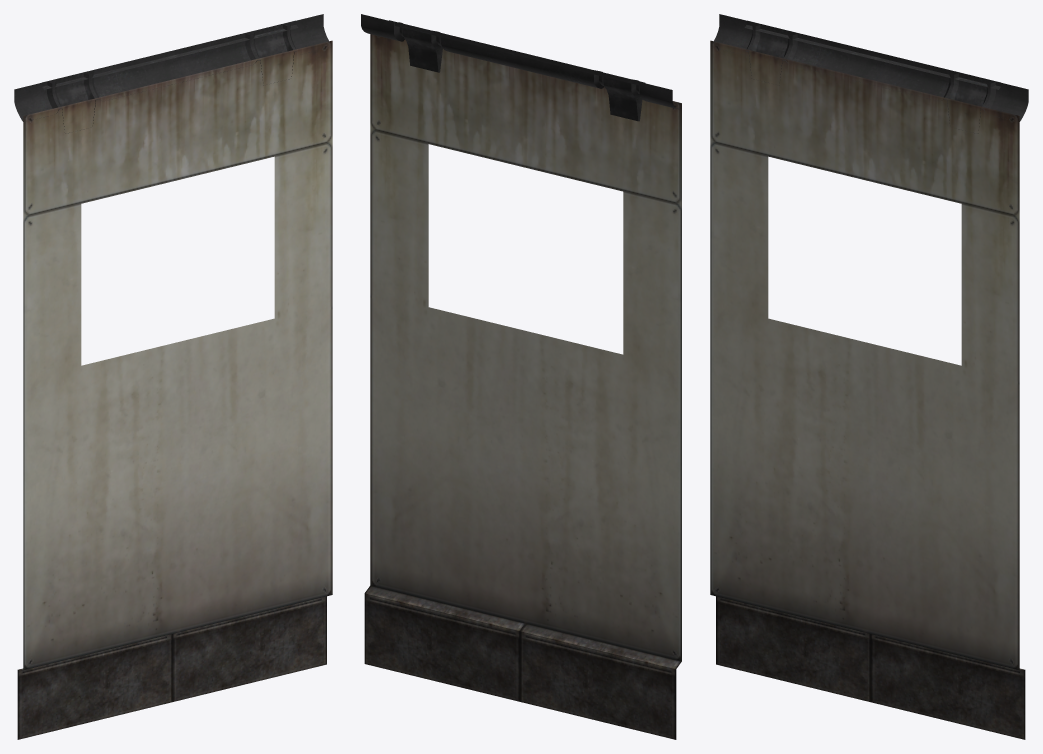
Rendered from lab_flat_short_vent.dae.
3 renders of one model, left to right at view 1: azimuth 30°, elevation 25°; view 2: azimuth 150°, elevation 25°; view 3: azimuth 330°, elevation 25°, orthographic.
Visible parts, largest first — view 1: lab_flat_short_vent; view 2: lab_flat_short_vent; view 3: lab_flat_short_vent.
Boxes of the visible parts, x1,y1,x2,y2 form: lab_flat_short_vent: (14,14,332,739); lab_flat_short_vent: (361,14,681,739); lab_flat_short_vent: (710,14,1028,739).
Size of the model in its own units: 2 by 4 by 0.1056.
